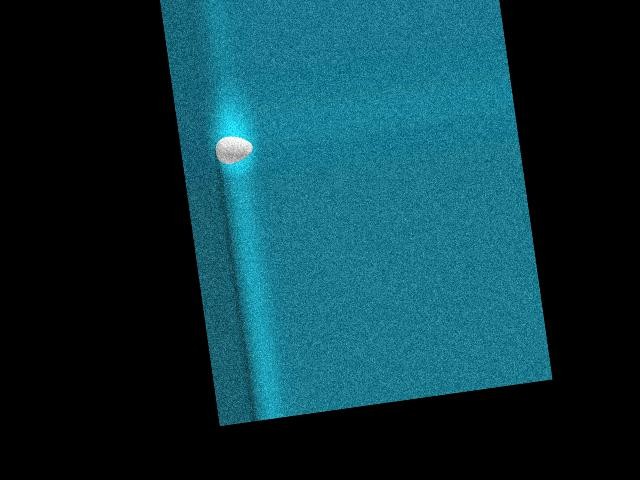egg: (213, 133, 254, 166)
